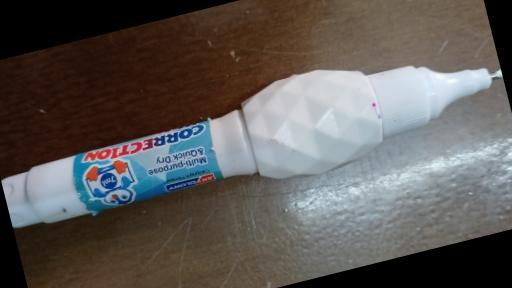Correction pen: (0, 27, 512, 250)
